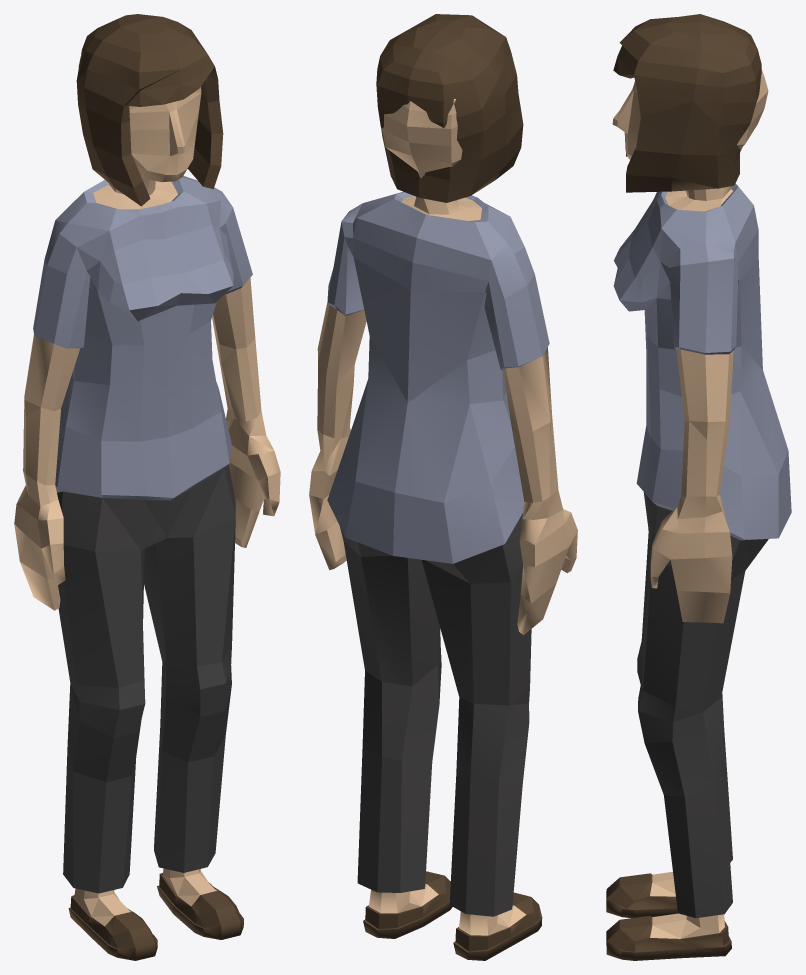
File: woman_stand.glb
The picture shows the model from 3 angles, left to right: view 1: azimuth 30°, elevation 25°; view 2: azimuth 150°, elevation 25°; view 3: azimuth 270°, elevation 25°; orthographic projection.
Visible parts, largest first — view 1: Cylinder_007; view 2: Cylinder_007; view 3: Cylinder_007.
Boxes of the visible parts, x1,y1,x2,y2 form: Cylinder_007: (14, 14, 280, 960); Cylinder_007: (309, 14, 577, 960); Cylinder_007: (606, 14, 791, 960).
Size of the model in its own units: 0.4433 by 1.65 by 0.3051.
